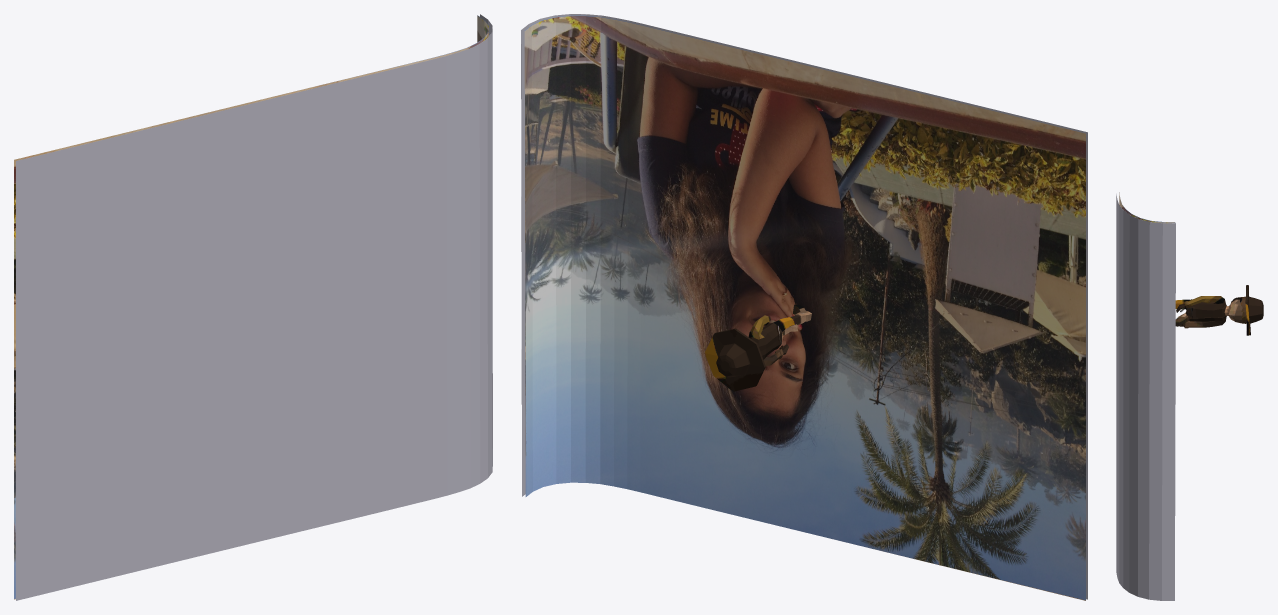
Rendered from start_file2_000071.obj.
3 views of the same model, side by side, from view 1: azimuth 30°, elevation 25°; view 2: azimuth 150°, elevation 25°; view 3: azimuth 270°, elevation 25° (orthographic). The views are drawn at different scales.
Parts seen in each view (by area): view 1: Cube_Cube.001; view 2: Cube_Cube.001, Character_Cube; view 3: Cube_Cube.001, Character_Cube.
Part boxes in pixels (bbox=[...]): Cube_Cube.001: bbox=[14, 14, 492, 600]; Cube_Cube.001: bbox=[521, 14, 1087, 600]; Character_Cube: bbox=[704, 303, 811, 391]; Cube_Cube.001: bbox=[1116, 192, 1175, 600]; Character_Cube: bbox=[1175, 285, 1263, 335].
Bounding box in the file's own units: 1.81 × 1.52 × 0.5398.
Materials: 2 (2 with a texture image).
